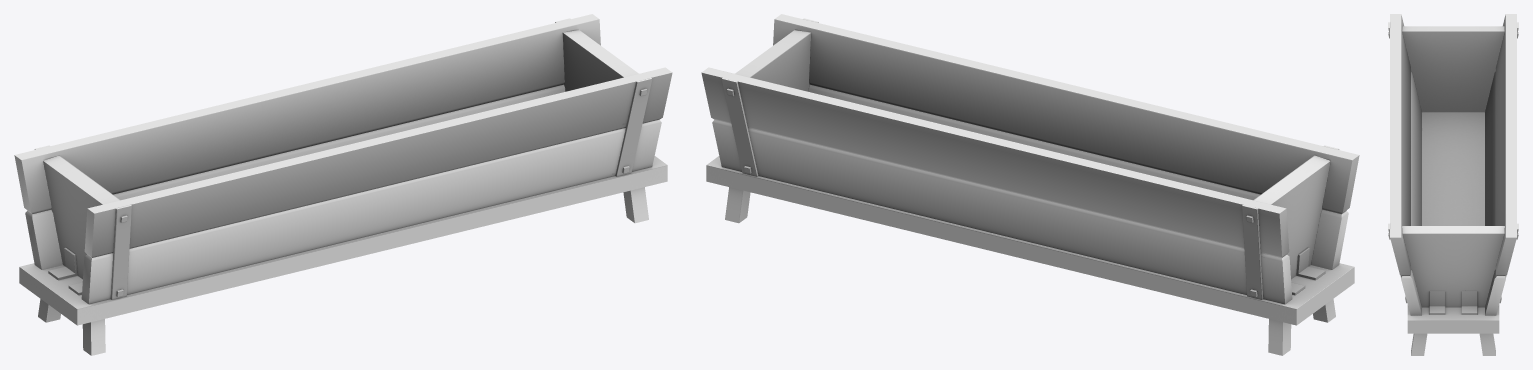
File: horse_trough.fbx
The picture shows the model from 3 angles, left to right: view 1: azimuth 30°, elevation 25°; view 2: azimuth 150°, elevation 25°; view 3: azimuth 270°, elevation 25°; orthographic projection. The views are drawn at different scales.
Visible parts, largest first — view 1: horse_trough; view 2: horse_trough; view 3: horse_trough.
Boxes of the visible parts, left/top/right/bottom form: horse_trough: left=14, top=14, right=672, bottom=355; horse_trough: left=701, top=14, right=1359, bottom=355; horse_trough: left=1388, top=14, right=1518, bottom=355.
Size of the model in its own units: 1177 by 294 by 285.
